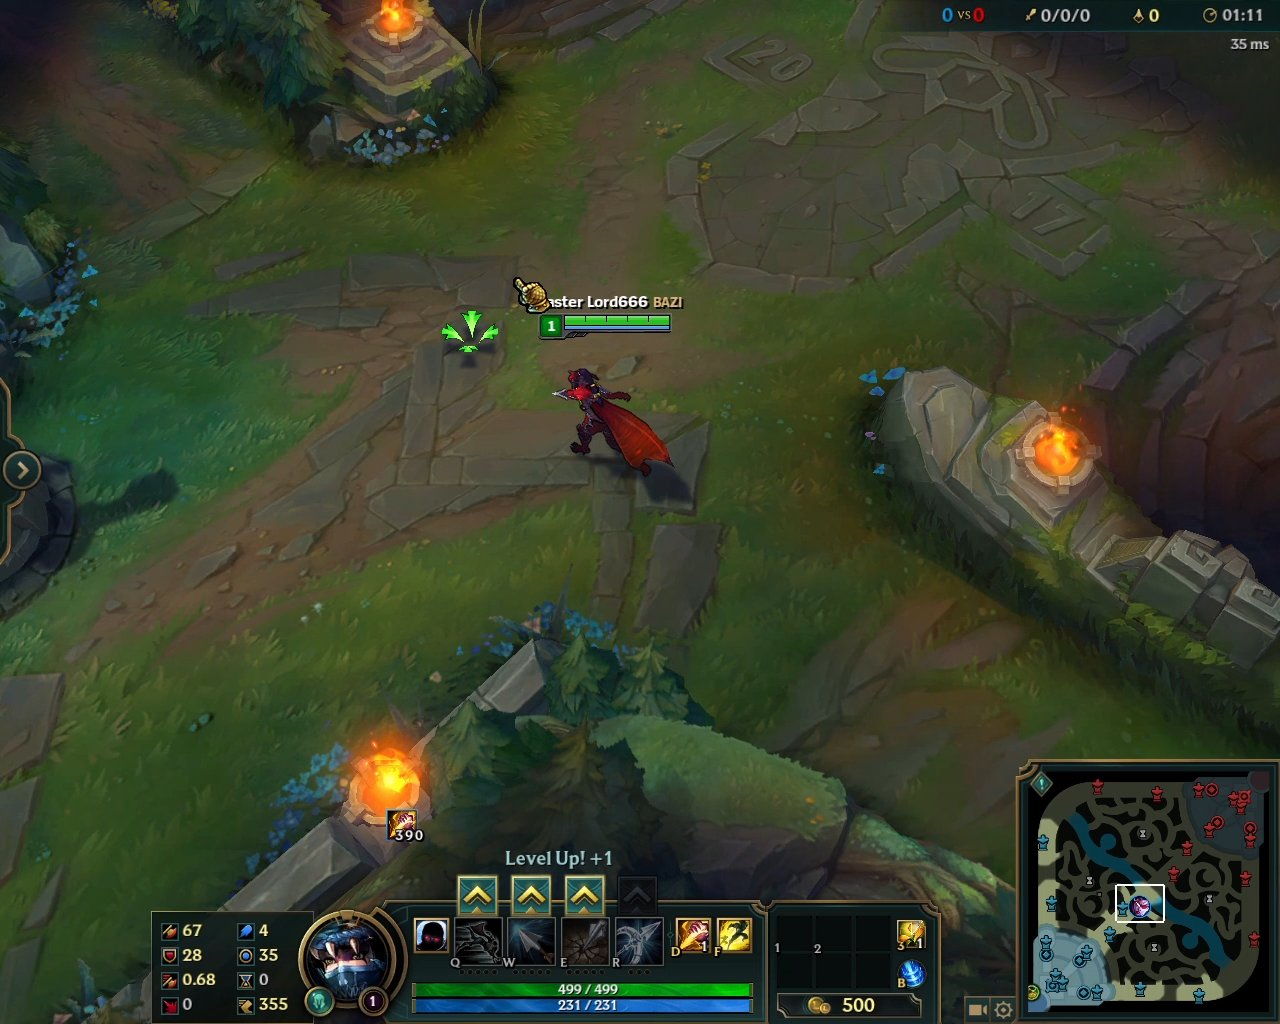Vayne: (545, 363, 681, 479)
